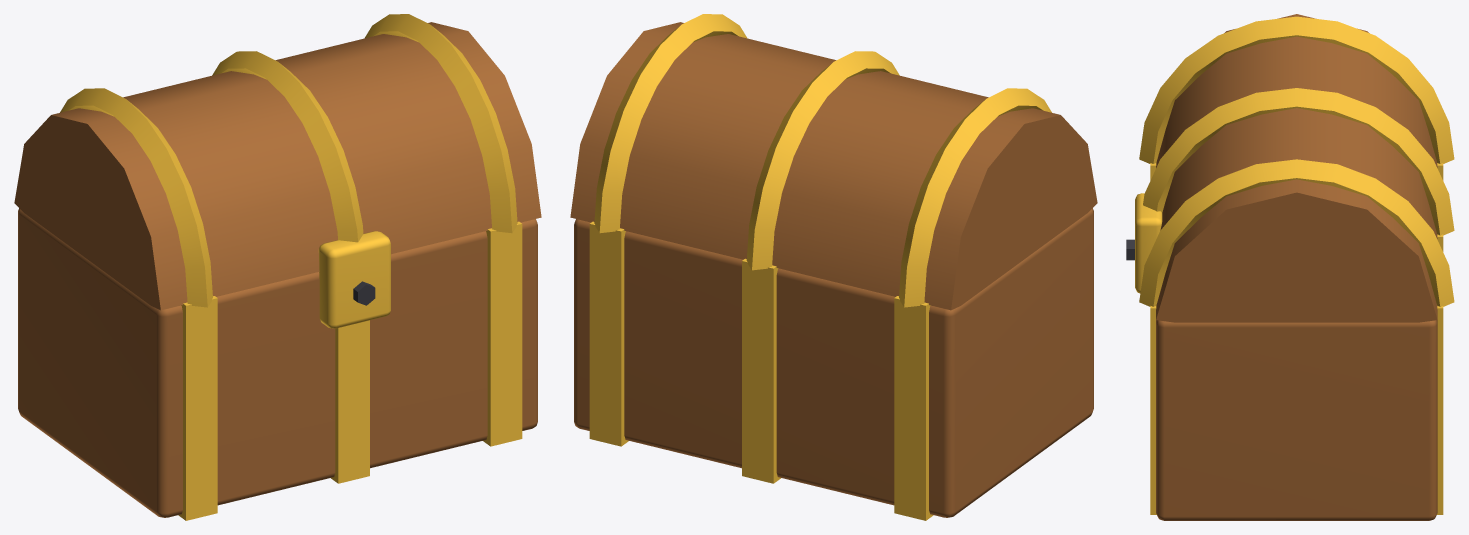
Rendered from TreasureChest.fbx.
3 renders of one model, left to right at view 1: azimuth 30°, elevation 25°; view 2: azimuth 150°, elevation 25°; view 3: azimuth 270°, elevation 25°, orthographic. The views are drawn at different scales.
Parts seen in each view (by area): view 1: TreasureChest; view 2: TreasureChest; view 3: TreasureChest.
Part boxes in pixels (x1=…): TreasureChest: x1=14, y1=14, x2=541, y2=520; TreasureChest: x1=570, y1=14, x2=1097, y2=520; TreasureChest: x1=1126, y1=14, x2=1454, y2=520.
Bounding box in the file's own units: 3 × 2.73 × 2.33.
1 material, 1 textured.
